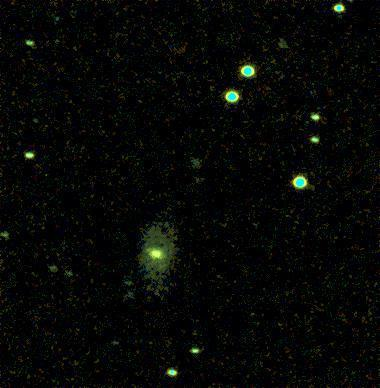star: (132, 234, 162, 264)
